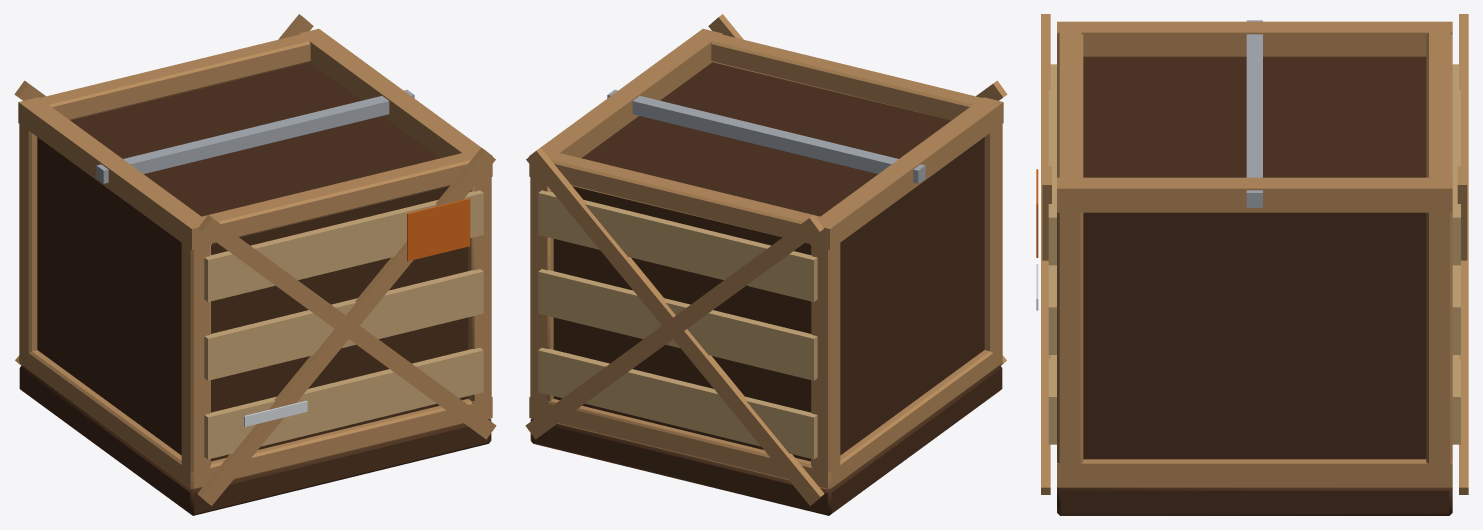
Rendered from crate_wood_slat_12.glb.
3 renders of one model, left to right at view 1: azimuth 30°, elevation 25°; view 2: azimuth 150°, elevation 25°; view 3: azimuth 270°, elevation 25°, orthographic. The views are drawn at different scales.
Visible parts, largest first — view 1: crate_wood_slat_12; view 2: crate_wood_slat_12; view 3: crate_wood_slat_12.
Part boxes in pixels (box(x1,y1,x2,y2)): crate_wood_slat_12: box(14, 14, 496, 515); crate_wood_slat_12: box(525, 14, 1007, 515); crate_wood_slat_12: box(1036, 14, 1468, 515).
Bounding box in the file's own units: 1.24 × 1.15 × 1.31.
